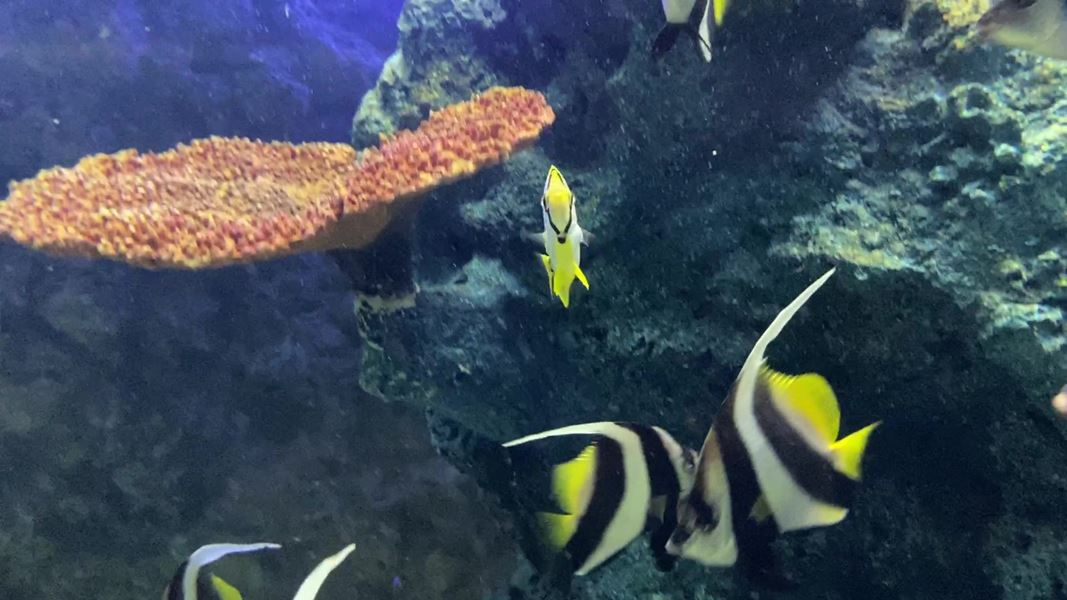Black-backed butterflyfish: (514, 156, 608, 319)
